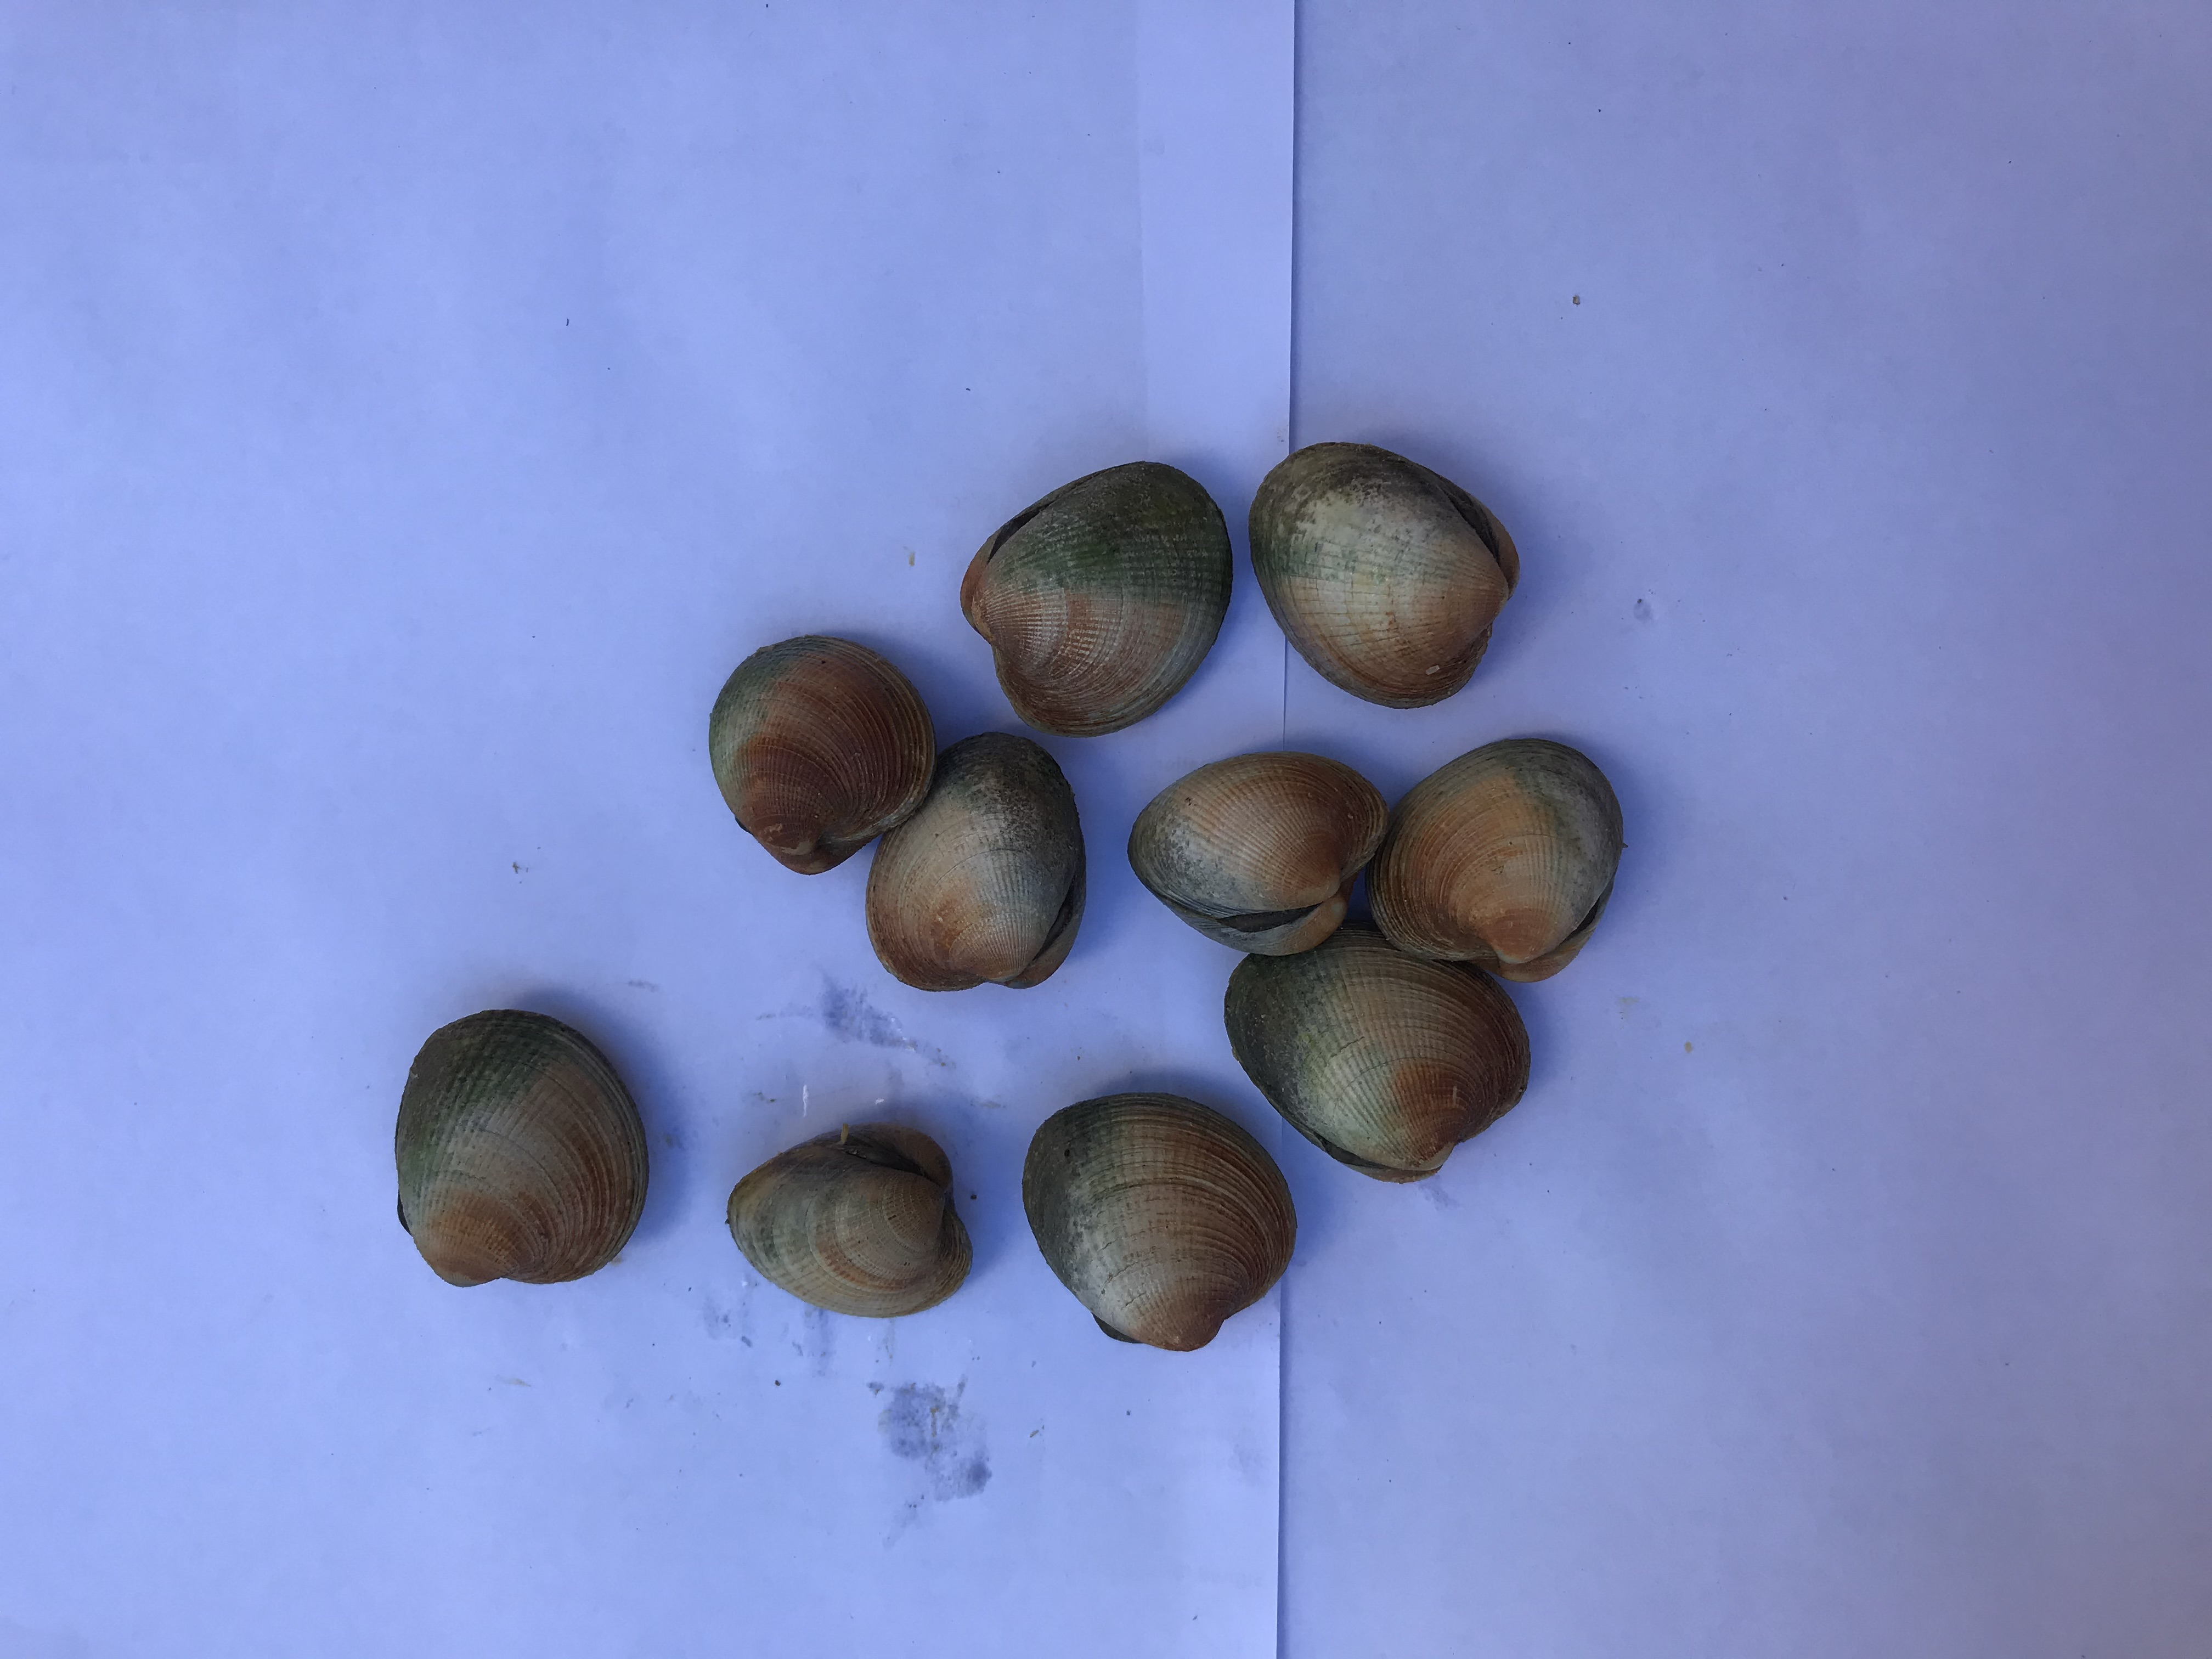cockle: (1221, 934, 1541, 1187), (954, 458, 1233, 732), (1019, 1087, 1299, 1359), (392, 1007, 648, 1291), (1242, 437, 1515, 699), (1367, 732, 1629, 992), (862, 730, 1090, 999), (704, 631, 939, 877), (1122, 748, 1388, 957), (721, 1117, 977, 1316)
